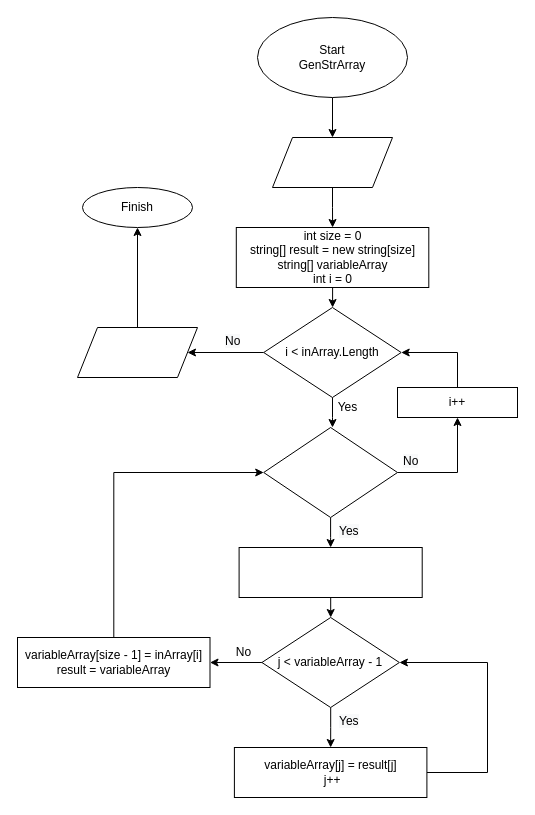
This 535x815 diagram has some shape labels left out. Here are the shapes that lost their labels. From the top down, the box of each, then its label:
(272, 136, 392, 188): string[] inArray
(76, 326, 198, 378): result
(263, 426, 398, 518): inArray.Length[i] <= 3
(238, 546, 422, 598): size++ variableArray = new string[size] int j = 0
